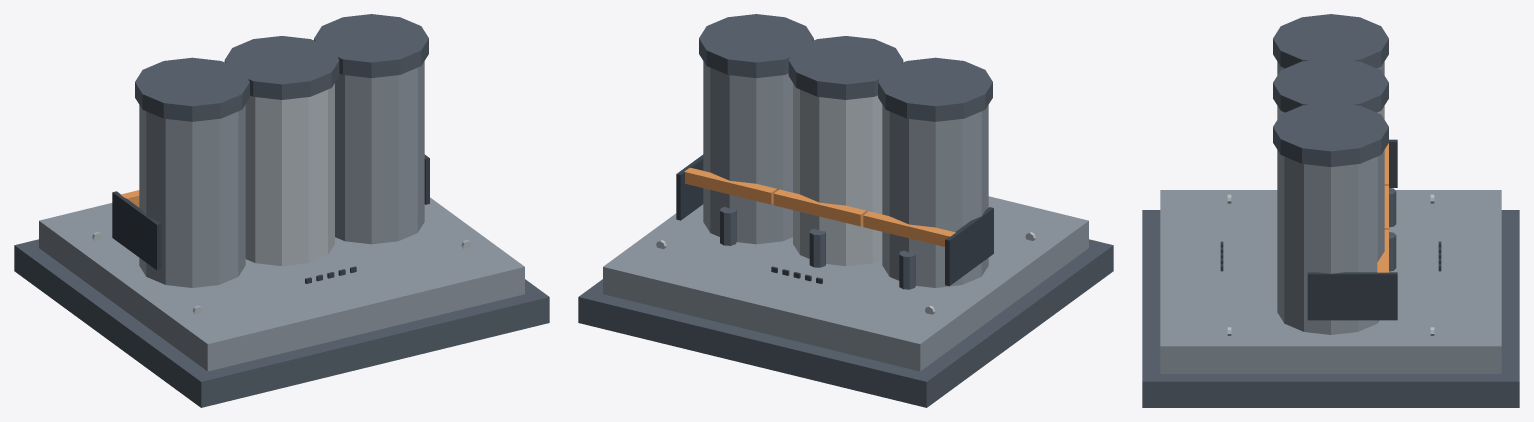
File: storage.glb
The picture shows the model from 3 angles, left to right: view 1: azimuth 30°, elevation 25°; view 2: azimuth 150°, elevation 25°; view 3: azimuth 270°, elevation 25°; orthographic projection.
Visible parts, largest first — view 1: detail_001, detail_000, detail_002, detail_010, detail_006, detail_003, detail_011, detail_007, detail_016; view 2: detail_001, detail_000, detail_002, detail_010, detail_006, detail_003, detail_011, detail_007, detail_016, detail_008, detail_012, detail_004 (+4 smaller); view 3: detail_001, detail_000, detail_010, detail_011, detail_007, detail_003, detail_019, detail_016.
Boxes of the visible parts, x1=… form: detail_001: x1=39, y1=197, x2=524, y2=371; detail_000: x1=14, y1=239, x2=549, y2=407; detail_002: x1=139, y1=105, x2=245, y2=287; detail_010: x1=335, y1=61, x2=424, y2=244; detail_006: x1=245, y1=83, x2=334, y2=265; detail_003: x1=135, y1=57, x2=249, y2=121; detail_011: x1=314, y1=14, x2=428, y2=78; detail_007: x1=224, y1=36, x2=339, y2=99; detail_016: x1=112, y1=191, x2=161, y2=270; detail_001: x1=603, y1=196, x2=1088, y2=371; detail_000: x1=578, y1=239, x2=1113, y2=407; detail_002: x1=882, y1=105, x2=988, y2=287; detail_010: x1=703, y1=61, x2=792, y2=244; detail_006: x1=793, y1=83, x2=882, y2=265; detail_003: x1=878, y1=57, x2=992, y2=121; detail_011: x1=699, y1=14, x2=813, y2=78; detail_007: x1=788, y1=36, x2=903, y2=99; detail_016: x1=945, y1=207, x2=993, y2=286; detail_008: x1=773, y1=189, x2=866, y2=226; detail_012: x1=684, y1=168, x2=776, y2=204; detail_004: x1=863, y1=211, x2=955, y2=246; detail_001: x1=1160, y1=190, x2=1501, y2=373; detail_000: x1=1142, y1=210, x2=1519, y2=407; detail_010: x1=1277, y1=150, x2=1384, y2=334; detail_011: x1=1273, y1=102, x2=1388, y2=166; detail_007: x1=1273, y1=58, x2=1388, y2=112; detail_003: x1=1273, y1=14, x2=1388, y2=68; detail_019: x1=1307, y1=272, x2=1397, y2=320; detail_016: x1=1389, y1=139, x2=1397, y2=187.
Size of the model in its own units: 2.8 by 1.82 by 2.6.
